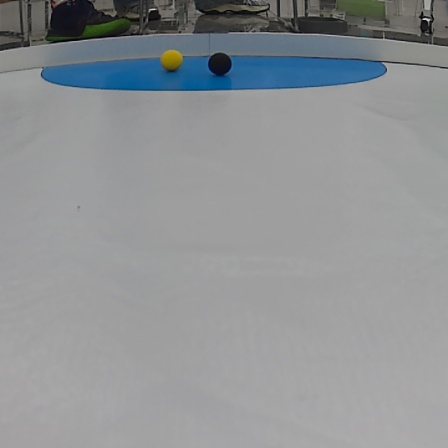black: (208, 52, 232, 74)
blue_base: (38, 51, 394, 95)
yellow: (160, 51, 185, 72)
